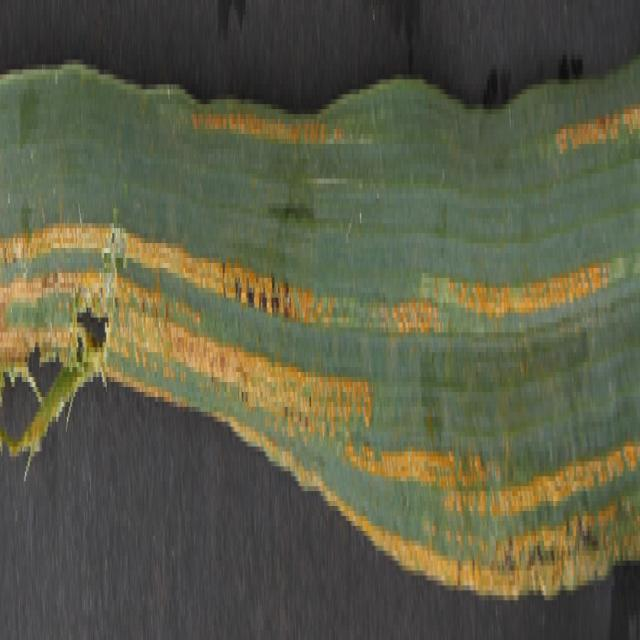leaf rust: (110, 94, 640, 590), (1, 164, 105, 312)
